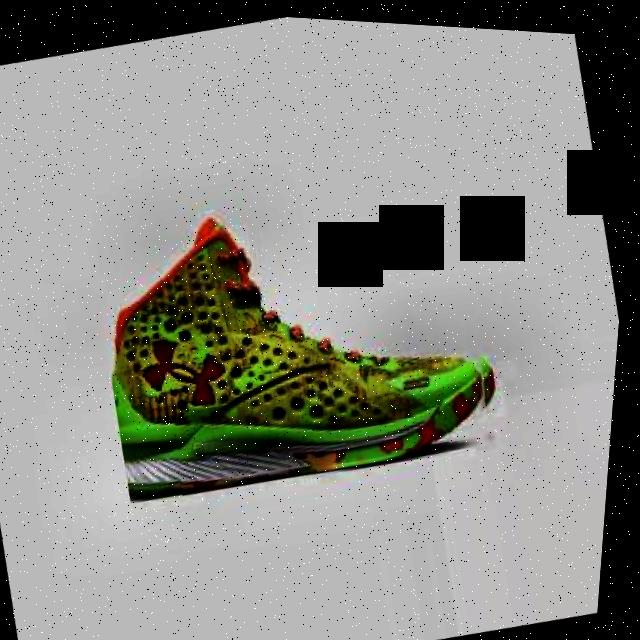shoe: (77, 145, 527, 519)
